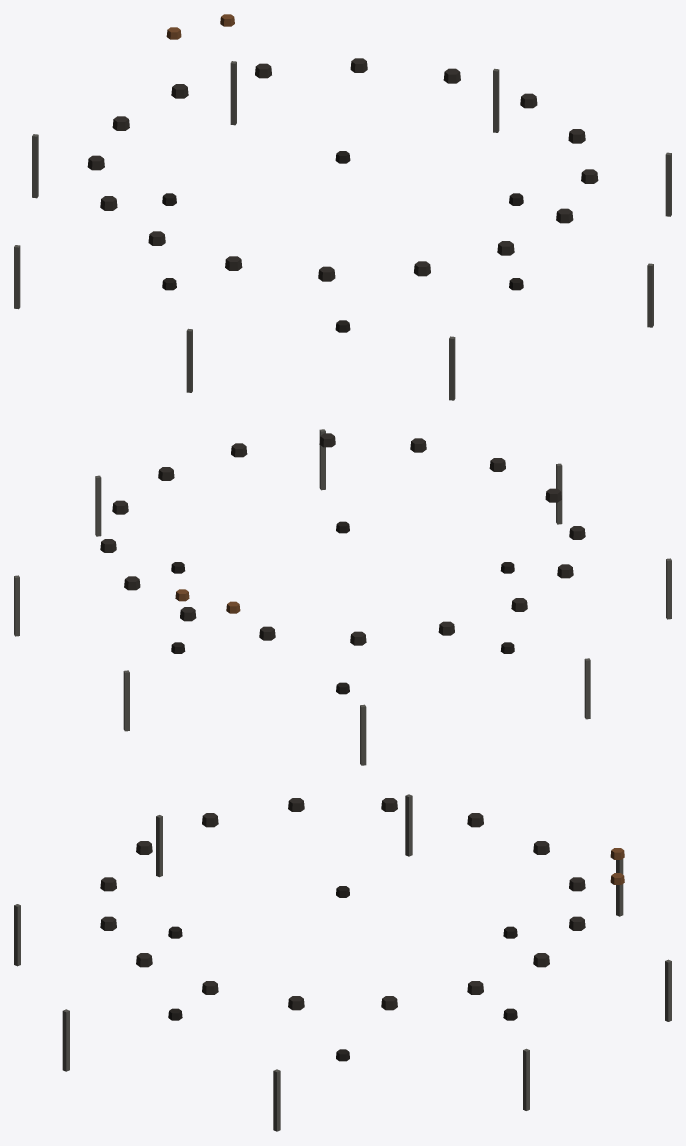
Rendered from geyser_vent_detail1.glb.
3 views of the same model, one above another, from view 1: azimuth 30°, elevation 25°; view 2: azimuth 150°, elevation 25°; view 3: azimuth 270°, elevation 25° (orthographic). The views are drawn at different scales.
Parts seen in each view (by area): view 1: geyser_vent_detail1.001; view 2: geyser_vent_detail1.001; view 3: geyser_vent_detail1.001.
Boxes of the visible parts, x1,y1,x2,y2 form: geyser_vent_detail1.001: (14, 14, 671, 400); geyser_vent_detail1.001: (14, 429, 671, 765); geyser_vent_detail1.001: (14, 794, 671, 1131).
Size of the model in its own units: 5.51 by 1.2 by 5.51.
